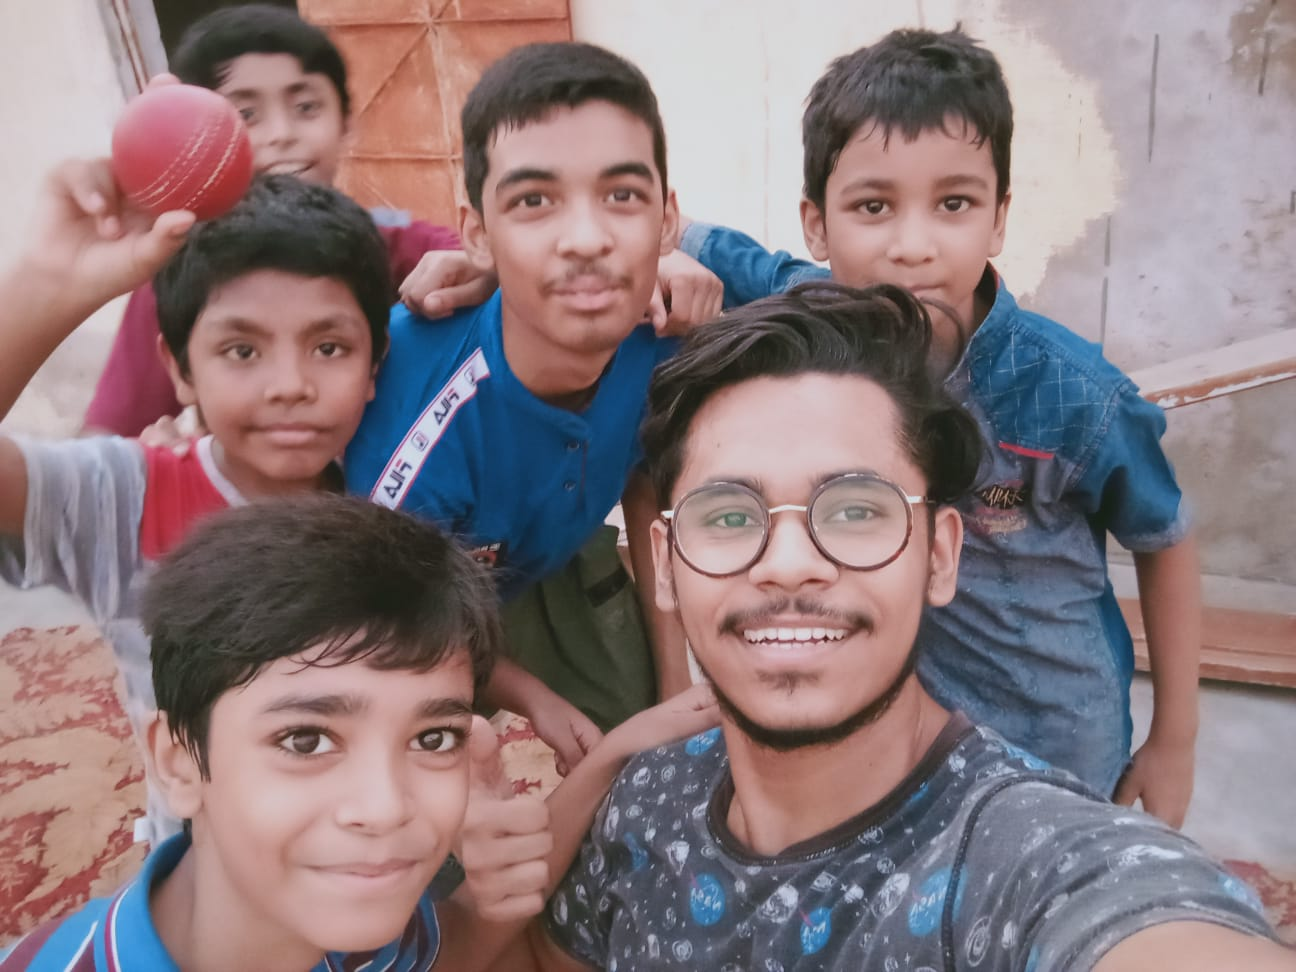NoMask: (682, 461, 908, 737), (250, 688, 470, 948), (494, 154, 661, 348), (205, 306, 365, 479), (840, 170, 989, 322), (229, 76, 334, 184)
